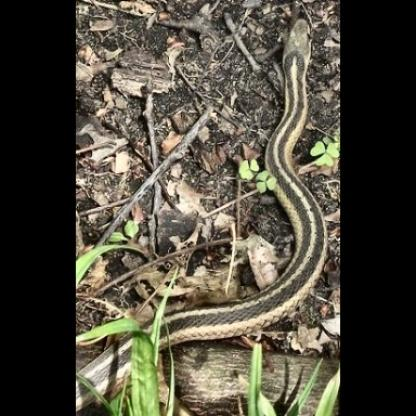Snake: (260, 11, 328, 325)
